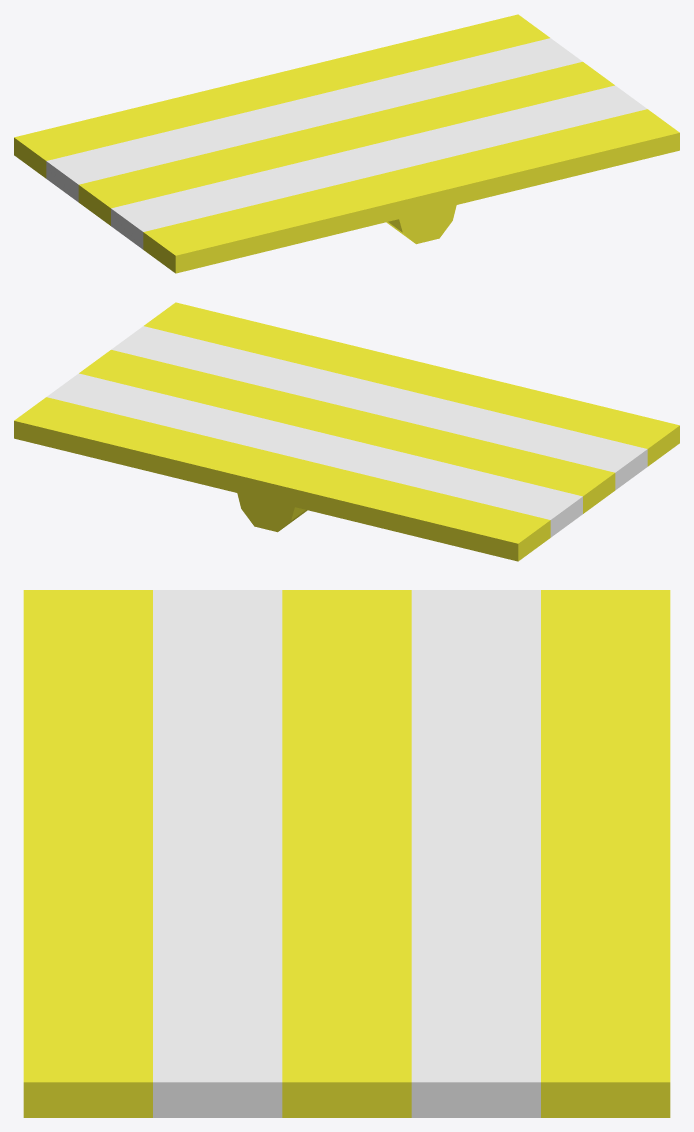
Rendered from Seesaw3.fbx.
3 renders of one model, top to bottom at view 1: azimuth 30°, elevation 25°; view 2: azimuth 150°, elevation 25°; view 3: azimuth 270°, elevation 25°, orthographic. The views are drawn at different scales.
Parts seen in each view (by area): view 1: Cube; view 2: Cube; view 3: Cube.
Part boxes in pixels (x1,y1,x2,y2): Cube: (14, 14, 679, 273); Cube: (14, 302, 679, 561); Cube: (23, 590, 670, 1117).
Size of the model in its own units: 1800 by 161 by 1000.
